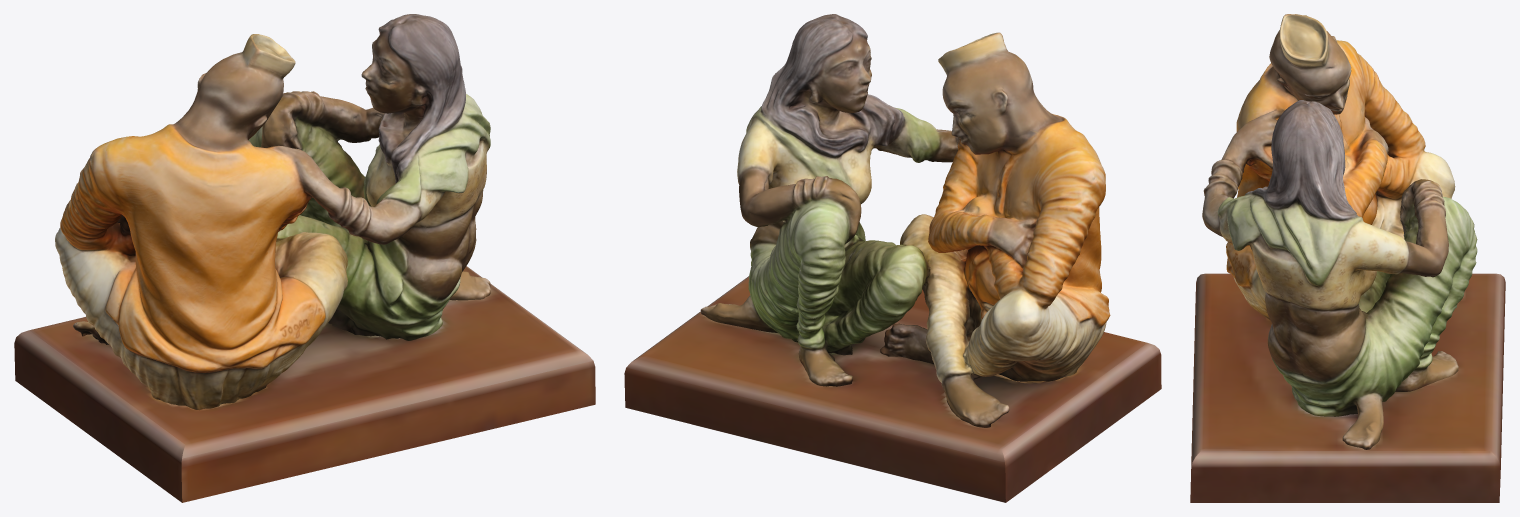
The model's file is chowdhury-couple.glb.
The picture shows the model from 3 angles, left to right: view 1: azimuth 30°, elevation 25°; view 2: azimuth 150°, elevation 25°; view 3: azimuth 270°, elevation 25°; orthographic projection. The views are drawn at different scales.
Visible parts, largest first — view 1: Mesh; view 2: Mesh; view 3: Mesh.
Part boxes in pixels (x1,y1,x2,y2): Mesh: [14, 14, 595, 502]; Mesh: [624, 14, 1161, 502]; Mesh: [1190, 14, 1505, 502].
Bounding box in the file's own units: 18.92 × 16.55 × 13.13.
1 material, 1 textured.
